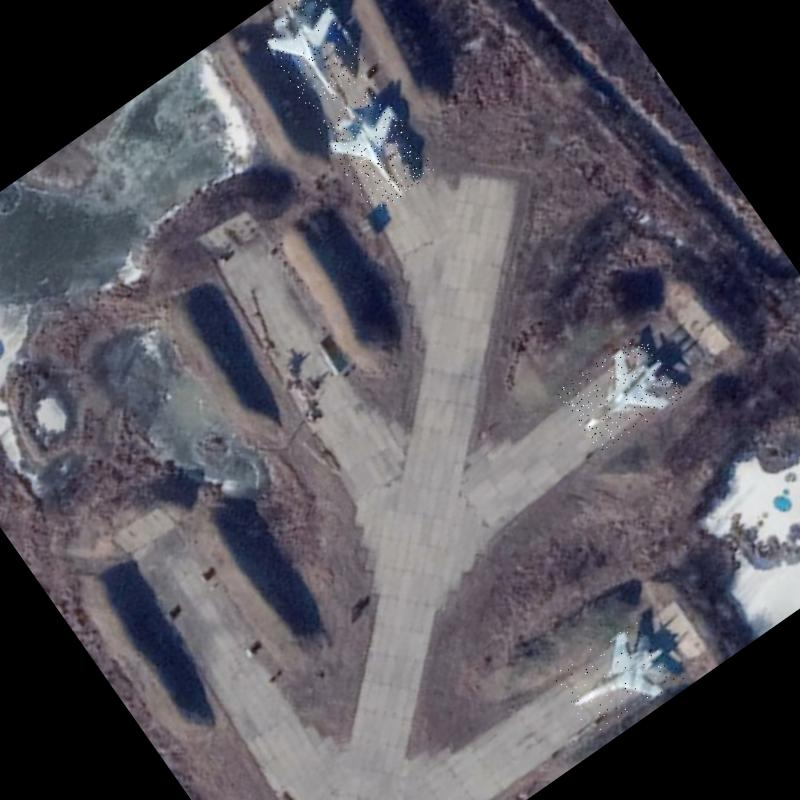A1: (550, 614, 684, 740), (314, 84, 438, 216), (250, 0, 377, 116)
A19: (556, 330, 686, 455)
